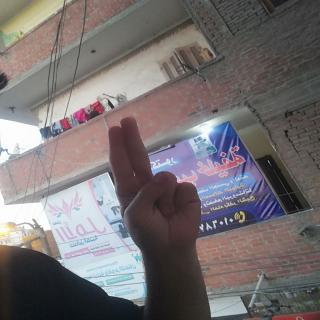TA: (92, 120, 239, 251)
